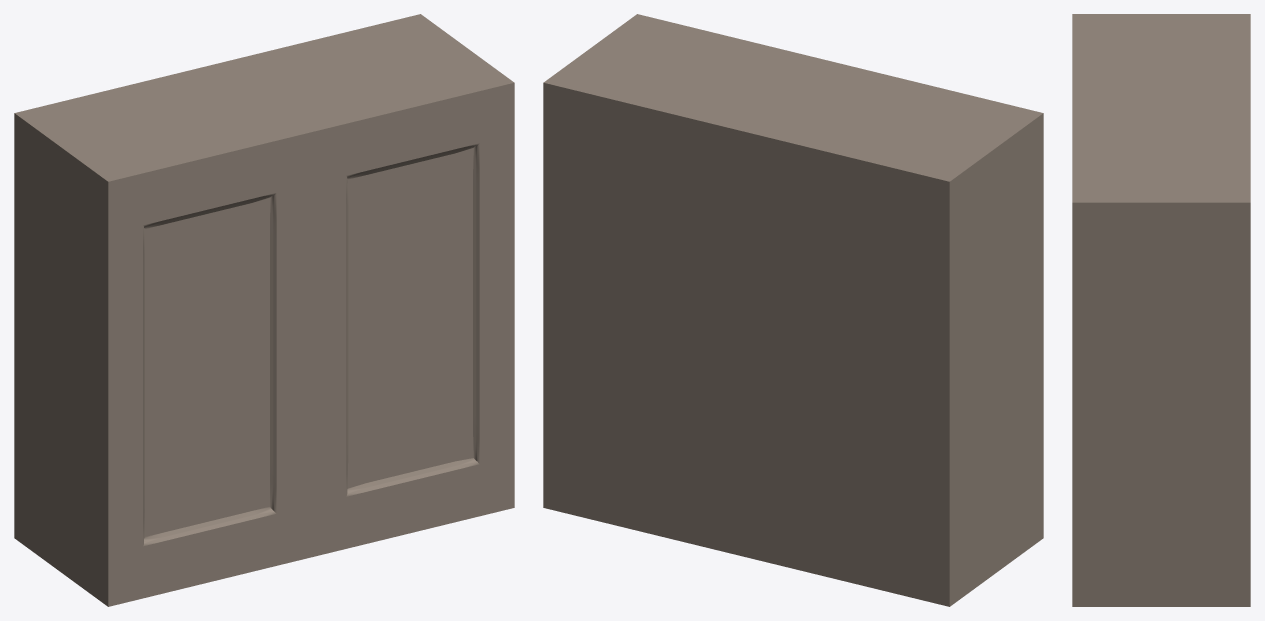
The model's file is Wall-Cabinet-21-High-12-Deep_std_001_H30in_onlyH.glb.
3 views of the same model, side by side, from view 1: azimuth 30°, elevation 25°; view 2: azimuth 150°, elevation 25°; view 3: azimuth 270°, elevation 25° (orthographic). The views are drawn at different scales.
Visible parts, largest first — view 1: Wall-Cabinet-21-High-12-Deep.std.001_H30in_onlyH; view 2: Wall-Cabinet-21-High-12-Deep.std.001_H30in_onlyH; view 3: Wall-Cabinet-21-High-12-Deep.std.001_H30in_onlyH.
Boxes of the visible parts, x1=… form: Wall-Cabinet-21-High-12-Deep.std.001_H30in_onlyH: x1=14, y1=14, x2=514, y2=606; Wall-Cabinet-21-High-12-Deep.std.001_H30in_onlyH: x1=543, y1=14, x2=1043, y2=606; Wall-Cabinet-21-High-12-Deep.std.001_H30in_onlyH: x1=1072, y1=14, x2=1250, y2=606.
Bounding box in the file's own units: 0.762 × 0.762 × 0.3048.
